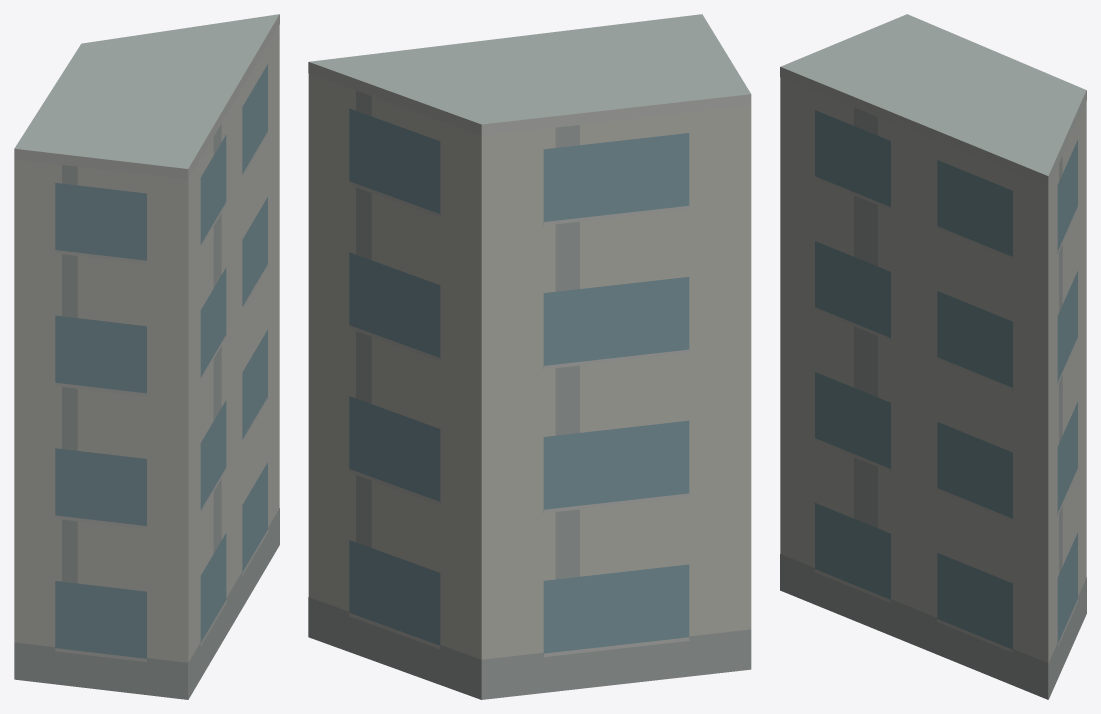
Rendered from survey-upis-32522163.glb.
The picture shows the model from 3 angles, left to right: view 1: azimuth 30°, elevation 25°; view 2: azimuth 150°, elevation 25°; view 3: azimuth 270°, elevation 25°; orthographic projection. The views are drawn at different scales.
Parts seen in each view (by area): view 1: survey-upis-32522163.tmp; view 2: survey-upis-32522163.tmp; view 3: survey-upis-32522163.tmp.
Boxes of the visible parts, x1,y1,x2,y2 form: survey-upis-32522163.tmp: [14, 14, 279, 699]; survey-upis-32522163.tmp: [308, 14, 751, 699]; survey-upis-32522163.tmp: [780, 14, 1086, 699].
Bounding box in the file's own units: 8.11 × 12.2 × 6.48.
